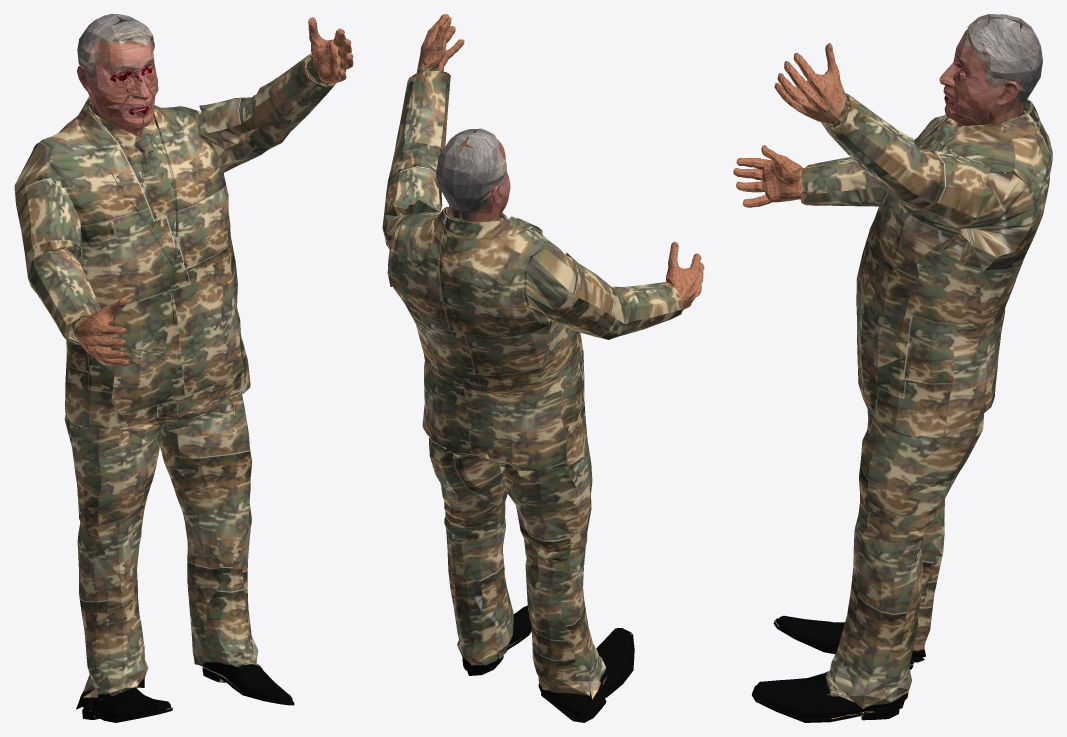
Rendered from zombie_000056.obj.
3 renders of one model, left to right at view 1: azimuth 30°, elevation 25°; view 2: azimuth 150°, elevation 25°; view 3: azimuth 270°, elevation 25°, orthographic. The views are drawn at different scales.
Visible parts, largest first — view 1: Suit_coat_orig_9___De, objGeo_Hea_orig_9___D; view 2: Suit_coat_orig_9___De, objGeo_Hea_orig_9___D; view 3: Suit_coat_orig_9___De, objGeo_Hea_orig_9___D.
Part boxes in pixels (box(x1,y1,x2,y2)): Suit_coat_orig_9___De: box(14, 17, 353, 722); objGeo_Hea_orig_9___D: box(77, 14, 158, 137); Suit_coat_orig_9___De: box(382, 14, 704, 722); objGeo_Hea_orig_9___D: box(435, 128, 510, 221); Suit_coat_orig_9___De: box(733, 43, 1052, 722); objGeo_Hea_orig_9___D: box(939, 14, 1042, 126).
Size of the model in its own units: 0.8682 by 1.98 by 0.7969.
